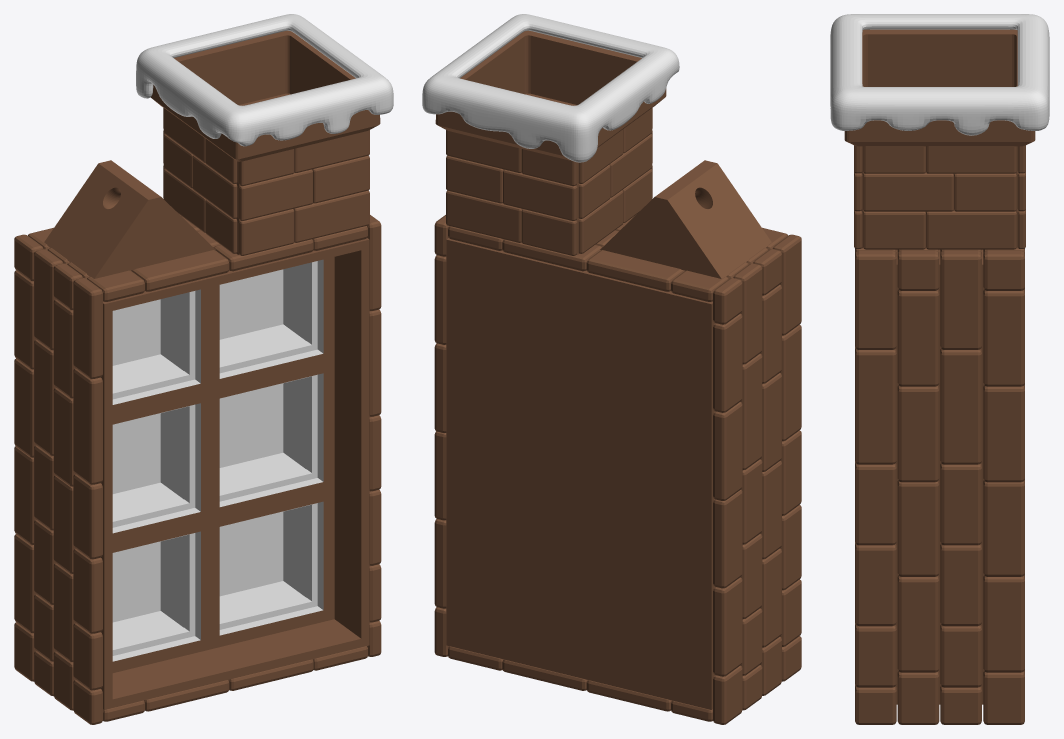
Rendered from cm_case.glb.
3 views of the same model, side by side, from view 1: azimuth 30°, elevation 25°; view 2: azimuth 150°, elevation 25°; view 3: azimuth 270°, elevation 25° (orthographic). The views are drawn at different scales.
Parts seen in each view (by area): view 1: Cube.067, Cube.066, Cube.099, Cube.094, Cube.051, Cube.063, Cube.077, Cube.078, Cube.086, Cube.093; view 2: Cube.067, Cube.066, Cube.099, Cube.094, Cube.051, Cube.063, Cube.077, Cube.078, Cube.086, Cube.093; view 3: Cube.066, Cube.099, Cube.051, Cube.078, Cube.093, Cube.067, Cube.077, Cube.086, Cube.063.
Part boxes in pixels (left/top/right/bottom): Cube.067: left=101, top=238, right=369, bottom=709; Cube.066: left=14, top=215, right=381, bottom=724; Cube.099: left=136, top=14, right=393, bottom=146; Cube.094: left=44, top=160, right=215, bottom=278; Cube.051: left=151, top=30, right=380, bottom=254; Cube.063: left=28, top=214, right=367, bottom=721; Cube.077: left=163, top=131, right=369, bottom=255; Cube.078: left=163, top=134, right=237, bottom=253; Cube.086: left=163, top=108, right=369, bottom=186; Cube.093: left=163, top=108, right=237, bottom=183; Cube.067: left=446, top=238, right=714, bottom=709; Cube.066: left=434, top=215, right=801, bottom=724; Cube.099: left=422, top=14, right=679, bottom=162; Cube.094: left=600, top=160, right=771, bottom=278; Cube.051: left=435, top=30, right=666, bottom=254; Cube.063: left=448, top=214, right=787, bottom=721; Cube.077: left=446, top=131, right=652, bottom=255; Cube.078: left=578, top=134, right=652, bottom=253; Cube.086: left=446, top=108, right=652, bottom=186; Cube.093: left=578, top=108, right=652, bottom=183; Cube.066: left=855, top=250, right=1024, bottom=724; Cube.099: left=830, top=14, right=1049, bottom=135; Cube.051: left=844, top=29, right=1035, bottom=248; Cube.078: left=863, top=172, right=1016, bottom=249; Cube.093: left=863, top=146, right=1016, bottom=173; Cube.067: left=855, top=249, right=1024, bottom=704; Cube.077: left=854, top=171, right=1025, bottom=248; Cube.086: left=854, top=145, right=1025, bottom=173; Cube.063: left=855, top=248, right=1024, bottom=253.
Size of the model in its own units: 44.93 by 84.19 by 26.51.
